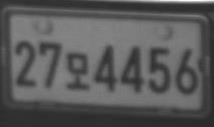2: (14, 40, 37, 87)
4: (120, 46, 145, 93), (94, 45, 118, 92)
5: (148, 47, 170, 94)
6: (174, 48, 198, 95)
7: (39, 41, 63, 88)
모: (66, 53, 88, 91)
